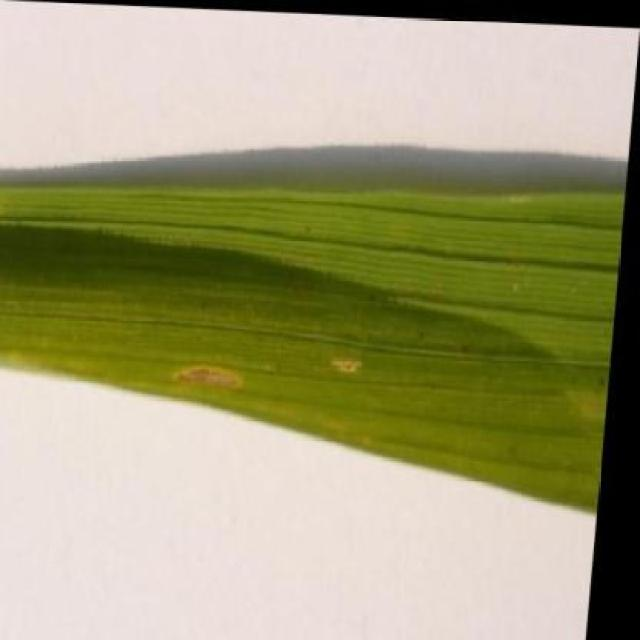Brown_Spot: (0, 142, 617, 520)
